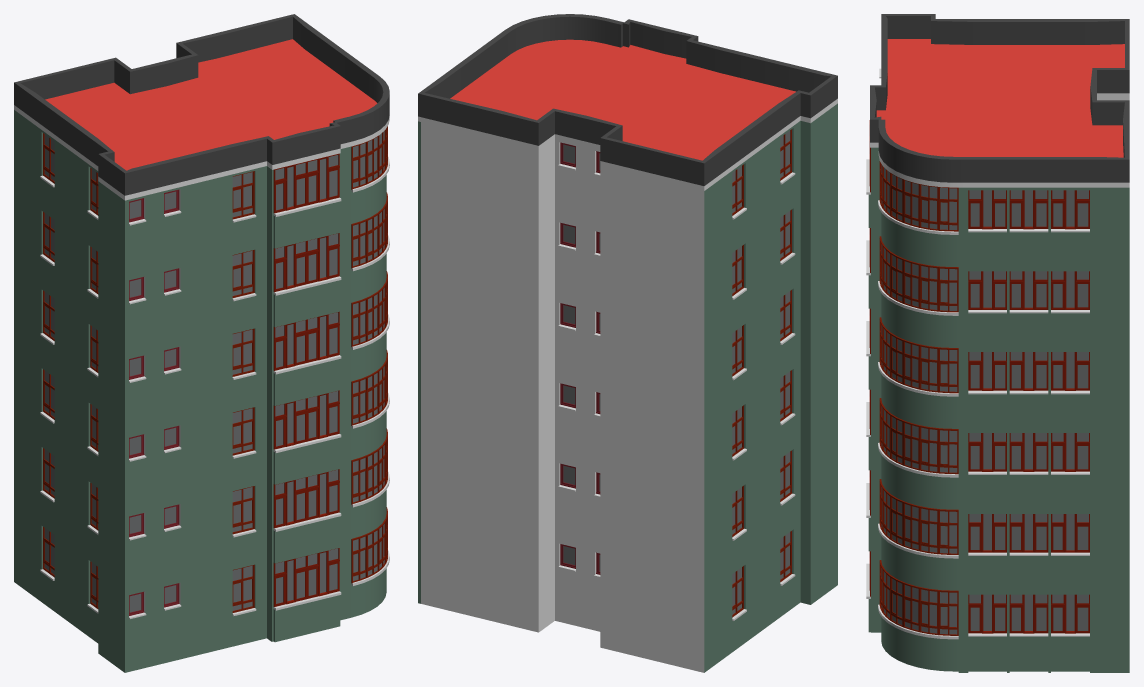
File: SM_Building_1.fbx
3 renders of one model, left to right at view 1: azimuth 30°, elevation 25°; view 2: azimuth 150°, elevation 25°; view 3: azimuth 270°, elevation 25°, orthographic. The views are drawn at different scales.
Parts seen in each view (by area): view 1: Plane.016; view 2: Plane.016; view 3: Plane.016.
Boxes of the visible parts, x1=… form: Plane.016: x1=14, y1=14, x2=389, y2=672; Plane.016: x1=418, y1=14, x2=837, y2=672; Plane.016: x1=866, y1=14, x2=1129, y2=672.
Size of the model in its own units: 1243 by 2042 by 949.
